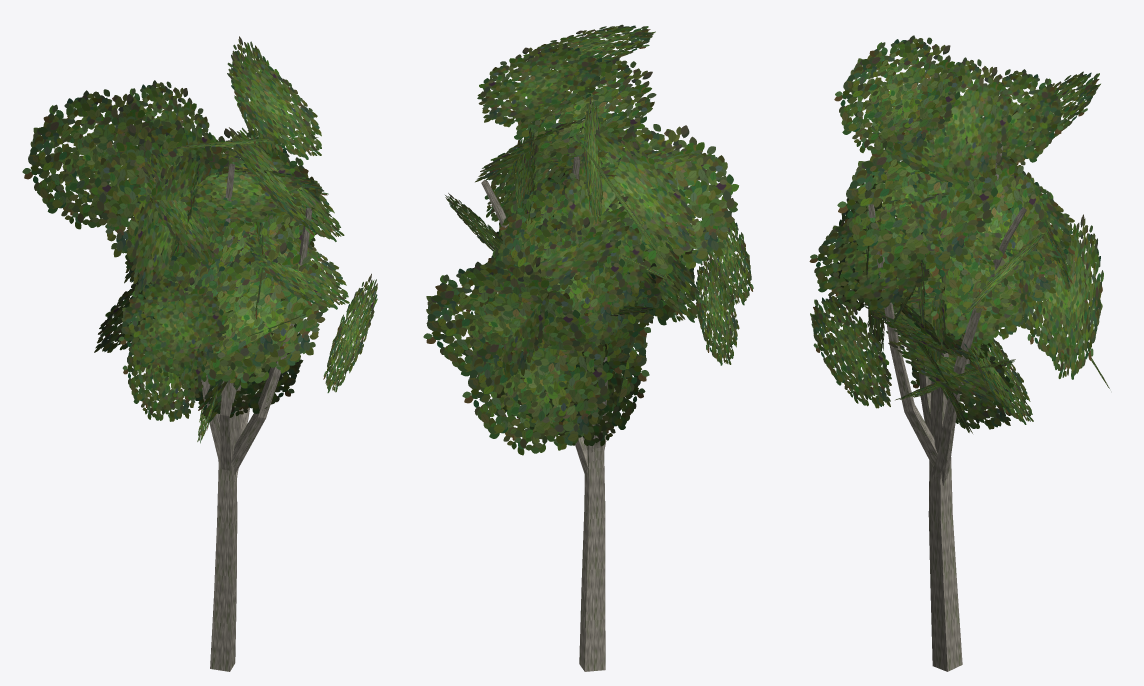
File: Tree_Beech_2_LOD2.gltf
The picture shows the model from 3 angles, left to right: view 1: azimuth 30°, elevation 25°; view 2: azimuth 150°, elevation 25°; view 3: azimuth 270°, elevation 25°; orthographic projection. The views are drawn at different scales.
Parts seen in each view (by area): view 1: Tree_Beech_2_LOD2; view 2: Tree_Beech_2_LOD2; view 3: Tree_Beech_2_LOD2.
Part boxes in pixels (x1=…): Tree_Beech_2_LOD2: x1=22, y1=36, x2=377, y2=671; Tree_Beech_2_LOD2: x1=423, y1=24, x2=753, y2=671; Tree_Beech_2_LOD2: x1=809, y1=35, x2=1109, y2=671.
Size of the model in its own units: 13.32 by 27.48 by 13.63.
Materials: 2 (2 with a texture image).
